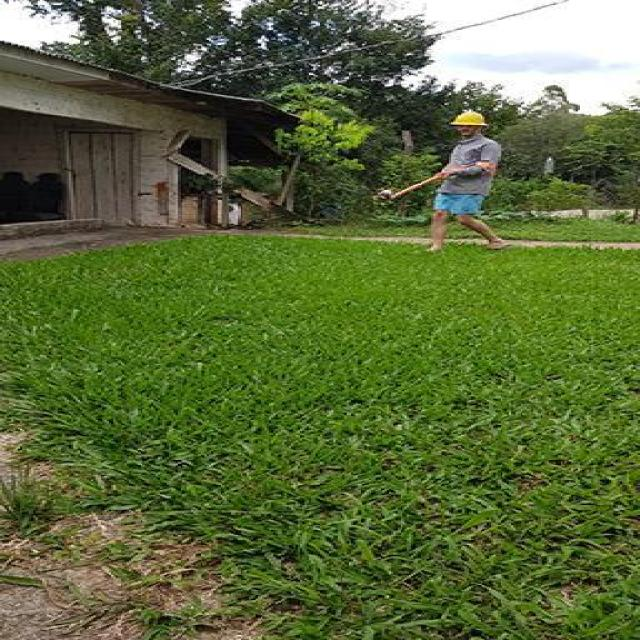helmet: (449, 110, 487, 138)
